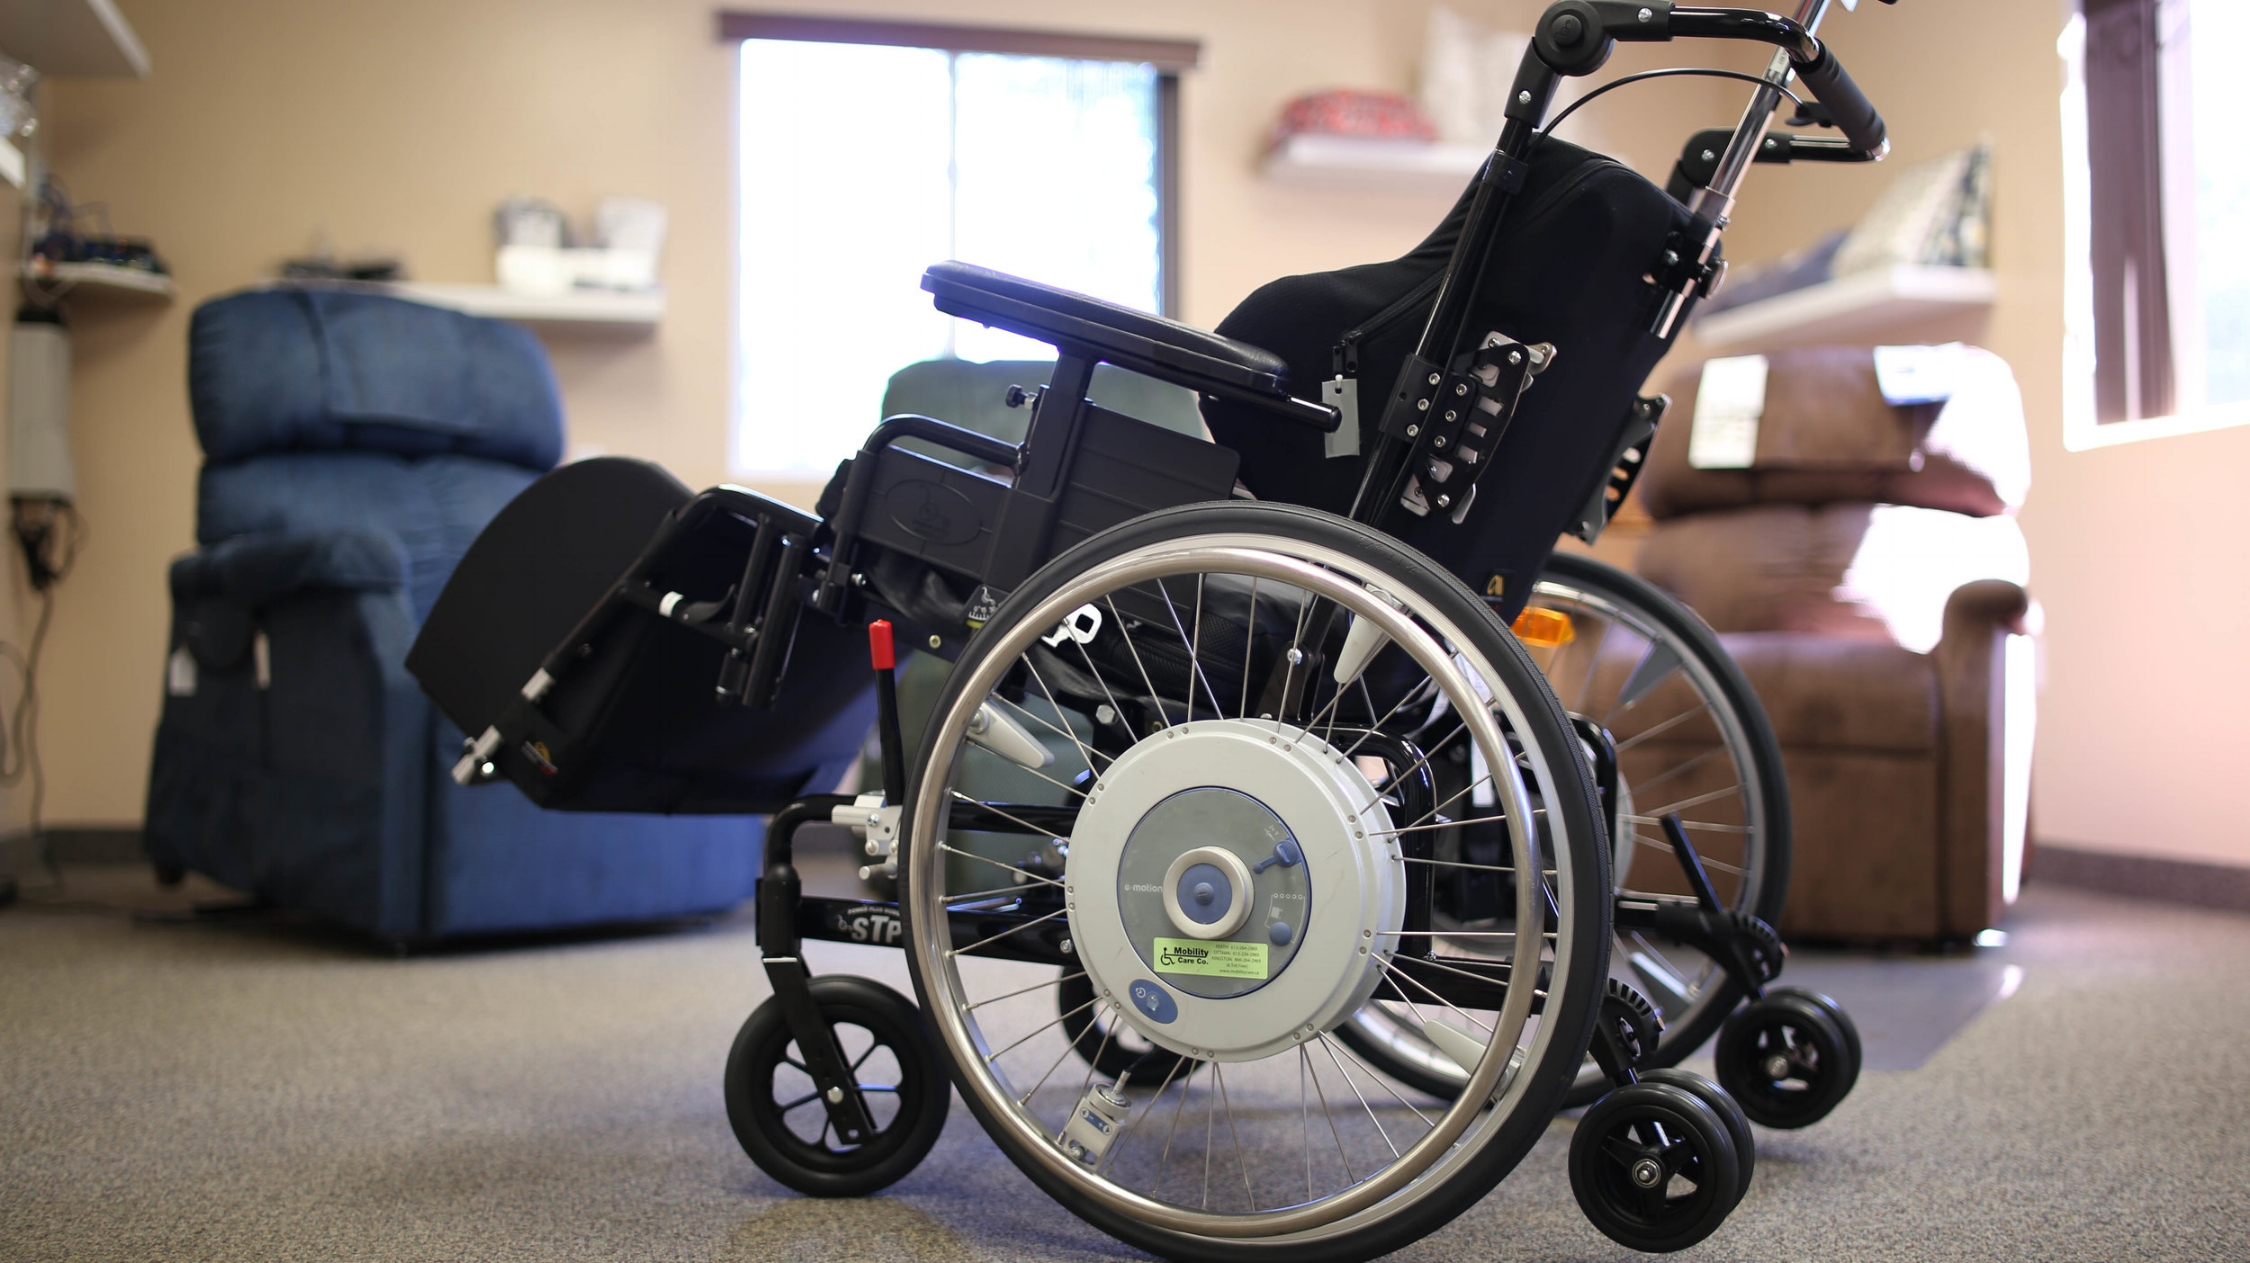wheelchair: (671, 2, 1874, 1221)
